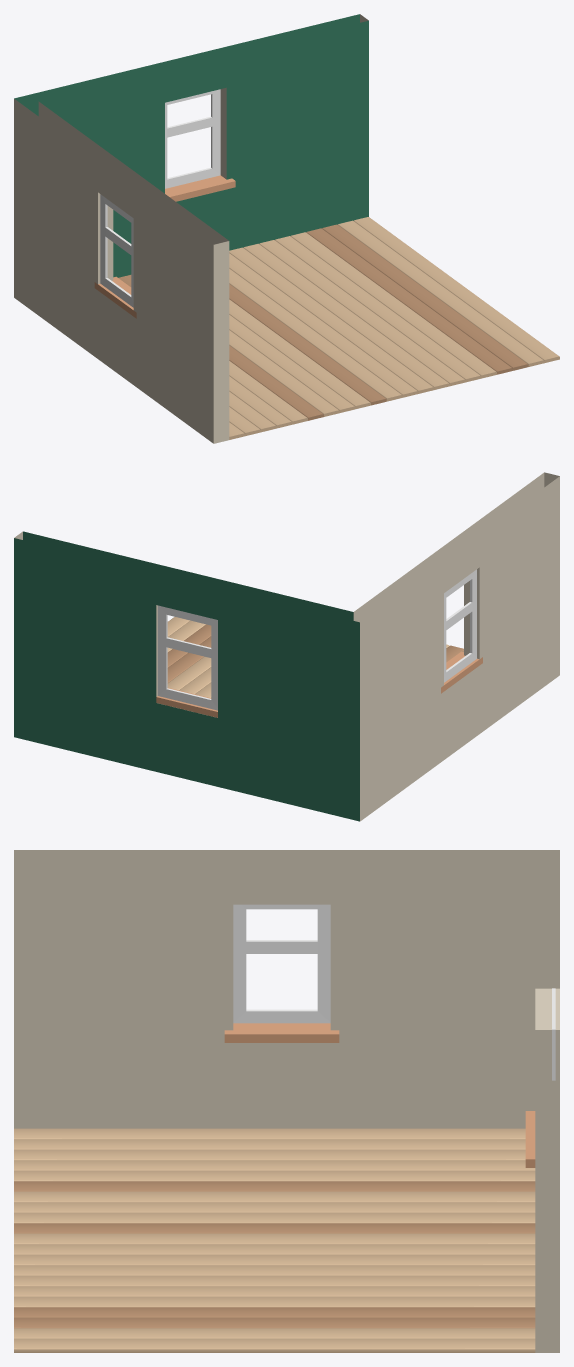
Rendered from Room 2.fbx.
3 views of the same model, one above another, from view 1: azimuth 30°, elevation 25°; view 2: azimuth 150°, elevation 25°; view 3: azimuth 270°, elevation 25° (orthographic). The views are drawn at different scales.
Visible parts, largest first — view 1: Cube.033, Deck.003, Cube.058, Cube.057; view 2: Cube.033, Cube.058, Deck.003, Cube.057; view 3: Cube.033, Deck.003, Cube.057, Cube.058.
Part boxes in pixels (left/top/right/bottom): Cube.033: left=14, top=14, right=368, bottom=443; Deck.003: left=118, top=217, right=559, bottom=439; Cube.058: left=165, top=89, right=235, bottom=201; Cube.057: left=94, top=194, right=136, bottom=318; Cube.033: left=14, top=472, right=559, bottom=821; Cube.058: left=156, top=605, right=217, bottom=717; Deck.003: left=167, top=617, right=463, bottom=697; Cube.057: left=441, top=569, right=482, bottom=693; Cube.033: left=14, top=850, right=559, bottom=1352; Deck.003: left=14, top=1128, right=535, bottom=1352; Cube.057: left=224, top=904, right=339, bottom=1042; Cube.058: left=525, top=988, right=555, bottom=1167.
Bounding box in the file's own units: 200 × 110 × 200.
